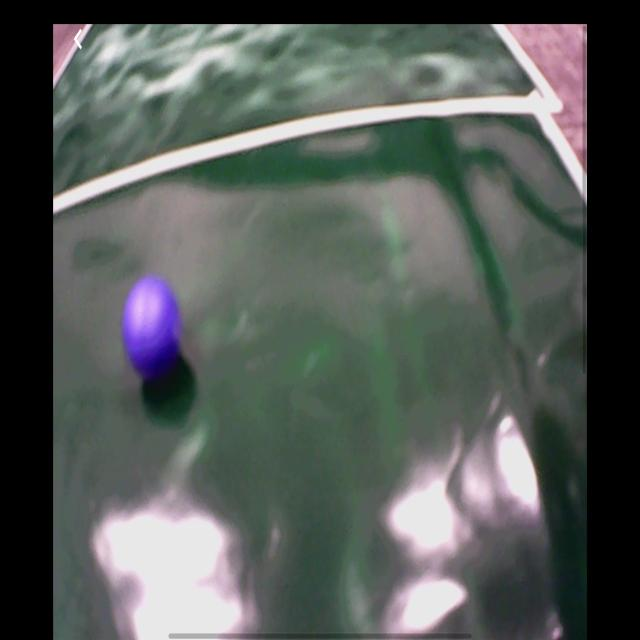ball: (123, 275, 183, 375)
